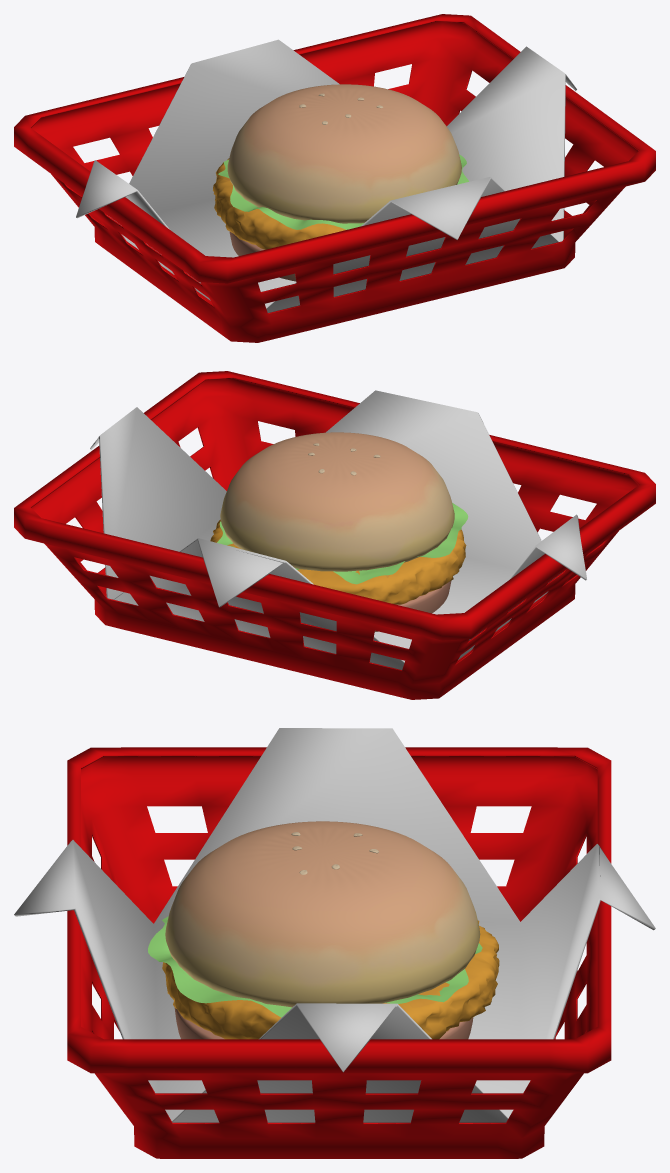
File: ChickenSandwich.fbx
3 views of the same model, one above another, from view 1: azimuth 30°, elevation 25°; view 2: azimuth 150°, elevation 25°; view 3: azimuth 270°, elevation 25° (orthographic). The views are drawn at different scales.
Visible parts, largest first — view 1: BurgerTray.001, BurgerTrayPaper.001, Topbun.001, Chicken, Lettuce.001; view 2: BurgerTray.001, BurgerTrayPaper.001, Topbun.001, Chicken, Lettuce.001, BottomBun.001; view 3: BurgerTray.001, BurgerTrayPaper.001, Topbun.001, Chicken, Lettuce.001, BottomBun.001.
Boxes of the visible parts, left/top/right/bottom form: BurgerTray.001: left=14, top=14, right=655, bottom=342; BurgerTrayPaper.001: left=76, top=39, right=576, bottom=312; Topbun.001: left=227, top=84, right=461, bottom=223; Chicken: left=213, top=158, right=345, bottom=249; Lettuce.001: left=218, top=154, right=468, bottom=229; BurgerTray.001: left=14, top=371, right=655, bottom=699; BurgerTrayPaper.001: left=90, top=390, right=586, bottom=669; Topbun.001: left=220, top=432, right=454, bottom=571; Chicken: left=210, top=519, right=466, bottom=604; Lettuce.001: left=217, top=503, right=468, bottom=584; BottomBun.001: left=374, top=581, right=451, bottom=631; BurgerTray.001: left=67, top=747, right=611, bottom=1158; BurgerTrayPaper.001: left=14, top=728, right=655, bottom=1122; Topbun.001: left=165, top=821, right=480, bottom=1007; Chicken: left=162, top=920, right=499, bottom=1039; Lettuce.001: left=148, top=916, right=482, bottom=1017; BottomBun.001: left=174, top=1008, right=473, bottom=1039.
Bounding box in the file's own units: 89.14 × 25.41 × 73.87.
13 materials, 13 textured.
